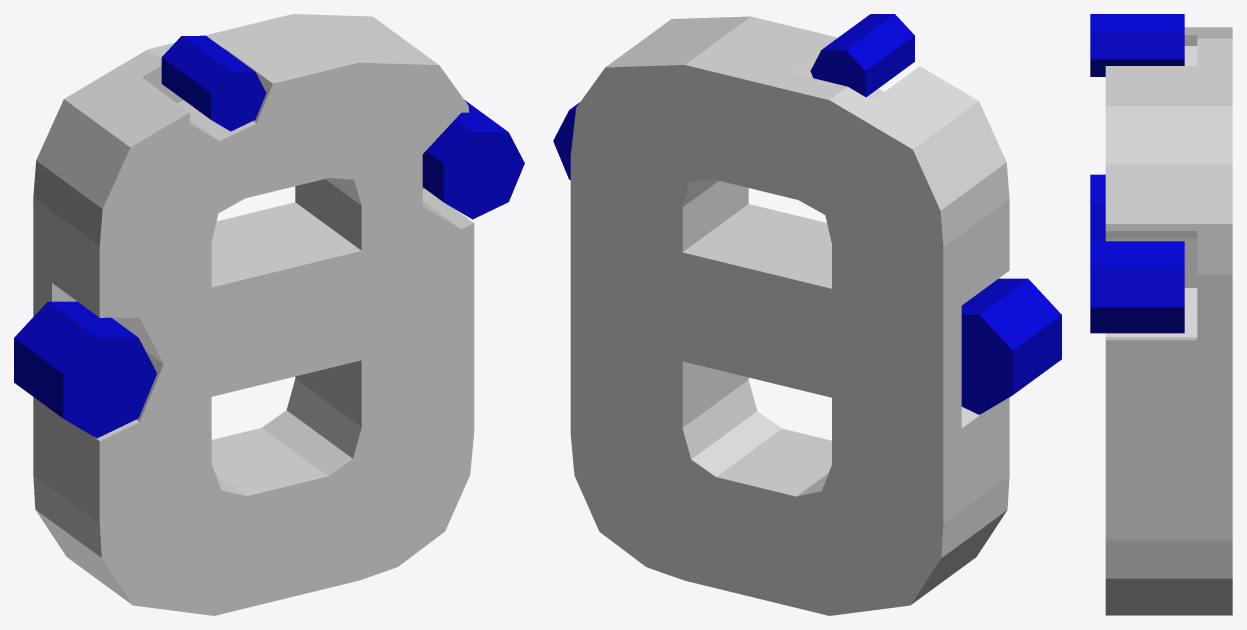
File: Ch_Lite_China_日_01.fbx
The picture shows the model from 3 angles, left to right: view 1: azimuth 30°, elevation 25°; view 2: azimuth 150°, elevation 25°; view 3: azimuth 270°, elevation 25°; orthographic projection. The views are drawn at different scales.
Parts seen in each view (by area): view 1: sphere1; view 2: sphere1; view 3: sphere1.
Part boxes in pixels (left/top/right/bottom): sphere1: left=14, top=14, right=524, bottom=615; sphere1: left=553, top=14, right=1061, bottom=615; sphere1: left=1090, top=14, right=1232, bottom=615.
Size of the model in its own units: 0.8018 by 0.9093 by 0.2242.
